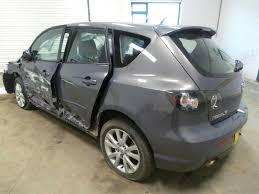RunningBoard-Dent: (28, 96, 83, 120)
doorouter-dent: (62, 66, 102, 120), (20, 61, 55, 104)
